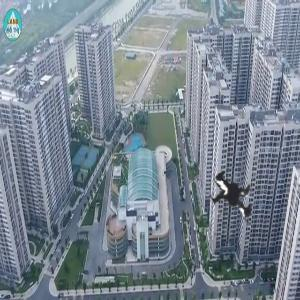drone: (147, 136, 298, 287)
